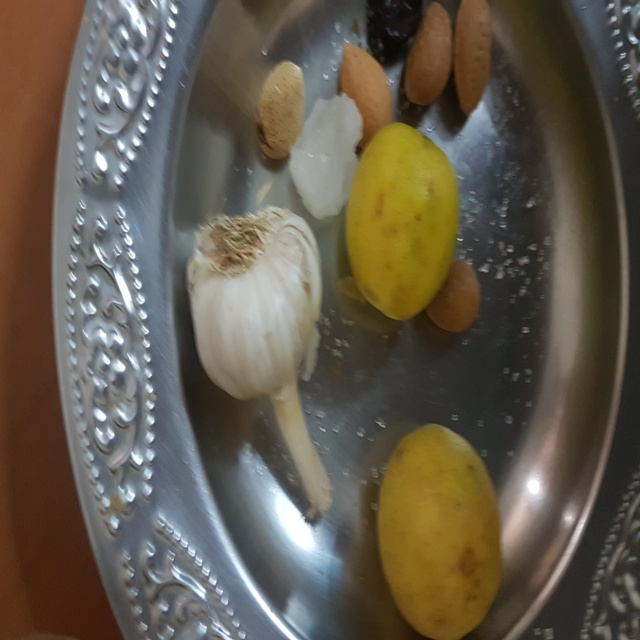garlic: (180, 208, 343, 525)
lemon: (371, 417, 510, 637), (337, 117, 477, 326)
